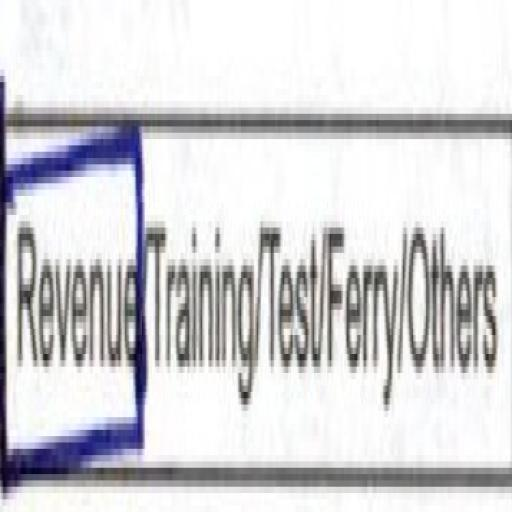check: (0, 13, 148, 512)
